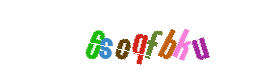6: (54, 0, 134, 80)
B: (114, 0, 194, 80)
F: (99, 0, 179, 80)
K: (132, 0, 212, 80)
O: (83, 0, 163, 80)
Q: (99, 0, 179, 80)
S: (66, 0, 146, 80)
U: (160, 0, 240, 80)
